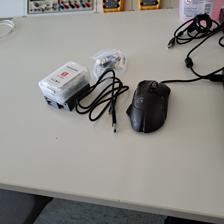mouse: (125, 79, 172, 134)
